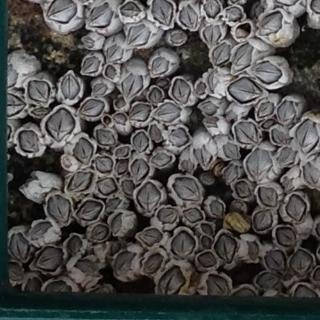Barnacle: (246, 148, 274, 182), (46, 108, 75, 140), (229, 76, 263, 102), (159, 265, 185, 295), (170, 230, 195, 260), (215, 233, 238, 265), (137, 181, 160, 213), (35, 245, 64, 270), (253, 60, 282, 84), (172, 177, 201, 200), (295, 120, 316, 151), (289, 249, 313, 276), (89, 3, 113, 30), (48, 0, 77, 22), (72, 137, 95, 164), (47, 195, 69, 223), (232, 42, 253, 71), (205, 272, 229, 297), (286, 194, 307, 222), (260, 11, 284, 35), (121, 72, 144, 97), (126, 24, 152, 46), (154, 103, 184, 122), (152, 0, 174, 25), (10, 234, 31, 260), (114, 250, 135, 275), (77, 200, 102, 221), (75, 258, 101, 278), (67, 172, 93, 192), (235, 123, 258, 145), (28, 80, 50, 102), (257, 185, 278, 208), (62, 75, 81, 100), (144, 252, 165, 274), (253, 210, 274, 232), (81, 99, 104, 119), (171, 79, 191, 102), (130, 159, 149, 183), (180, 4, 198, 29), (294, 285, 320, 302), (18, 131, 39, 152), (275, 227, 297, 247), (277, 101, 295, 125), (265, 251, 286, 271), (6, 94, 26, 115), (31, 221, 53, 240), (193, 145, 212, 167), (303, 163, 320, 187), (142, 228, 163, 247), (213, 43, 231, 65), (46, 281, 74, 295), (256, 271, 279, 288), (130, 104, 151, 122), (4, 64, 19, 89), (203, 24, 220, 46), (170, 128, 189, 147), (157, 207, 178, 224), (195, 252, 217, 268), (25, 277, 44, 295), (278, 148, 296, 167), (202, 0, 221, 18), (223, 164, 240, 184), (66, 235, 82, 256), (120, 2, 141, 18), (151, 58, 169, 76), (106, 44, 124, 62), (207, 69, 221, 92), (97, 179, 117, 195), (91, 224, 108, 241), (222, 142, 239, 159), (97, 130, 115, 146), (84, 55, 100, 73), (183, 207, 202, 222), (133, 132, 148, 151), (246, 241, 260, 261), (96, 157, 112, 174), (7, 262, 22, 280), (105, 197, 122, 212), (236, 182, 251, 199), (111, 213, 123, 233), (258, 103, 274, 118), (227, 7, 242, 23), (121, 181, 135, 198), (153, 153, 171, 166), (209, 200, 223, 216), (201, 102, 219, 114), (271, 130, 285, 145), (150, 125, 162, 142), (200, 172, 215, 185), (282, 175, 294, 191), (116, 161, 128, 177), (93, 82, 107, 95), (149, 89, 161, 103), (114, 146, 129, 157), (181, 160, 193, 172), (206, 117, 219, 128), (105, 66, 116, 79), (113, 115, 127, 125), (201, 222, 213, 233), (202, 236, 212, 249), (62, 156, 72, 169), (171, 33, 184, 43), (261, 120, 275, 129), (32, 108, 50, 115), (197, 81, 206, 95), (115, 99, 126, 110), (156, 79, 169, 87)
